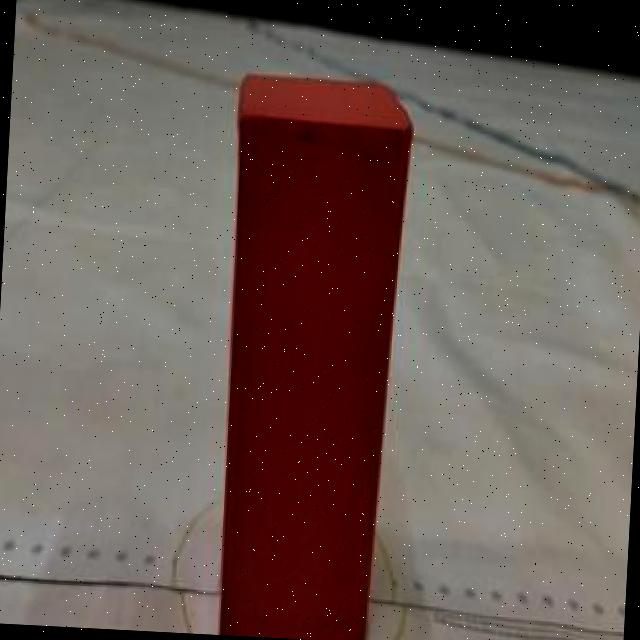redbox: (211, 68, 414, 640)
